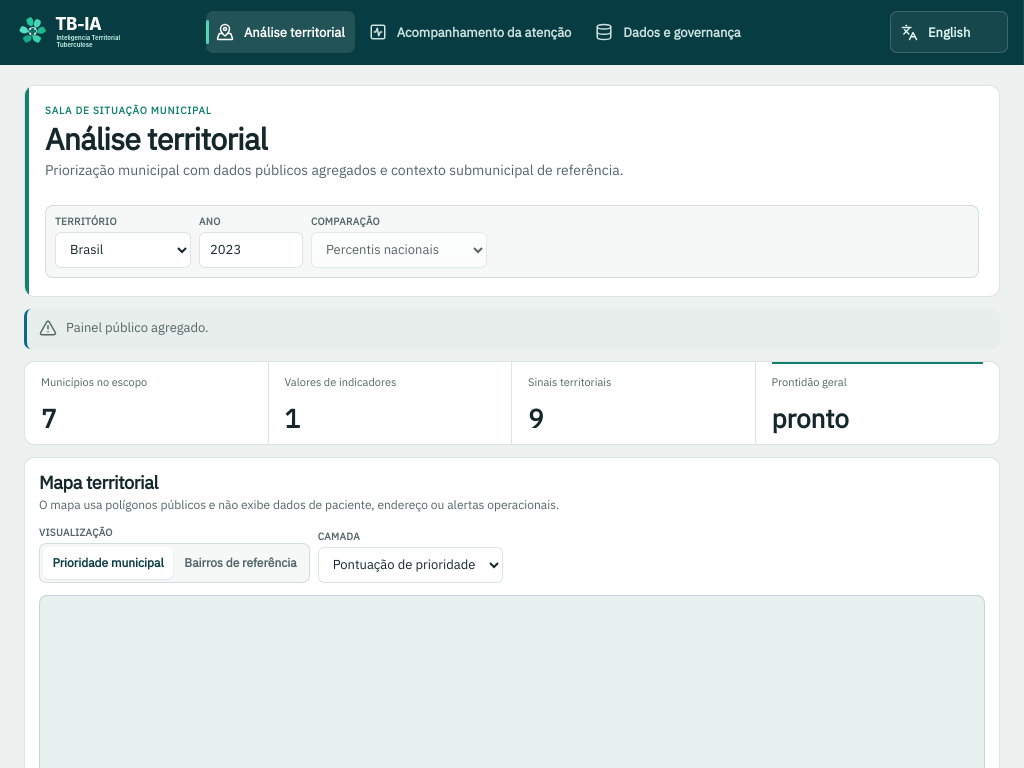
Test: App › explains layer values, availability, and units in the map legend
Step 1. Select "Incidência de TB" in the dropdown labelled "Camada" → (410, 565), box [318,547,503,583]
(page scrolled)
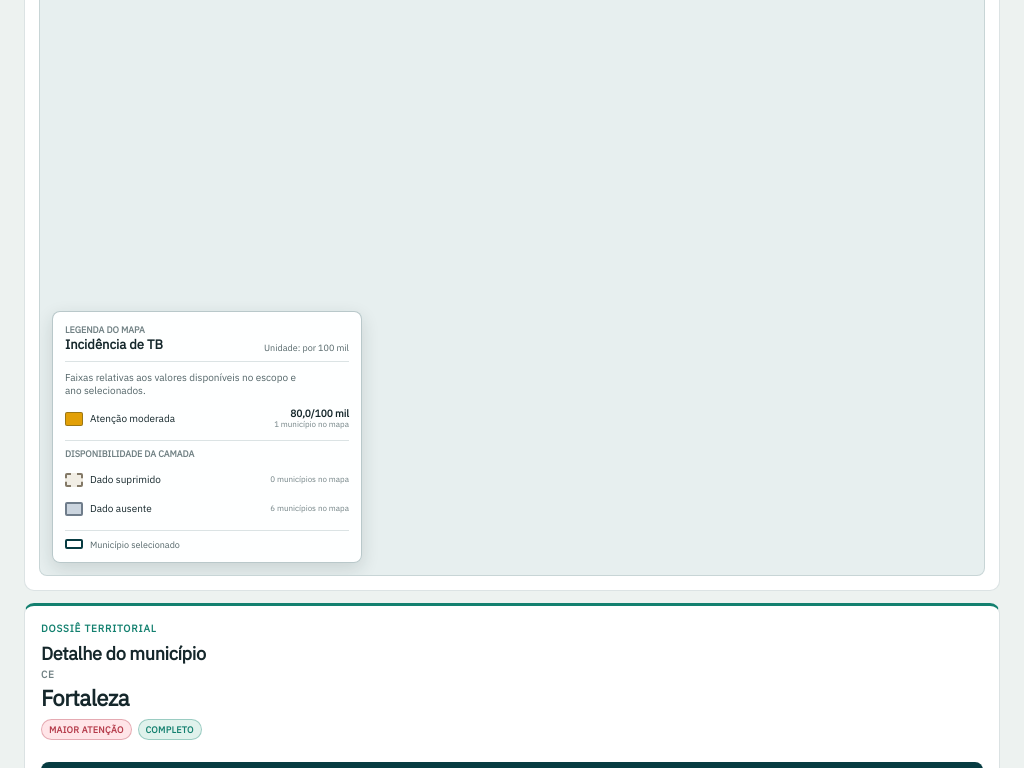
Expected: the text "Incidência de TB" is shown, [65,336,163,353]
Expected: the text "80,0/100 mil" is shown, [290,408,349,420]
Expected: the text "6 municípios no mapa" is shown, [270,504,349,514]
